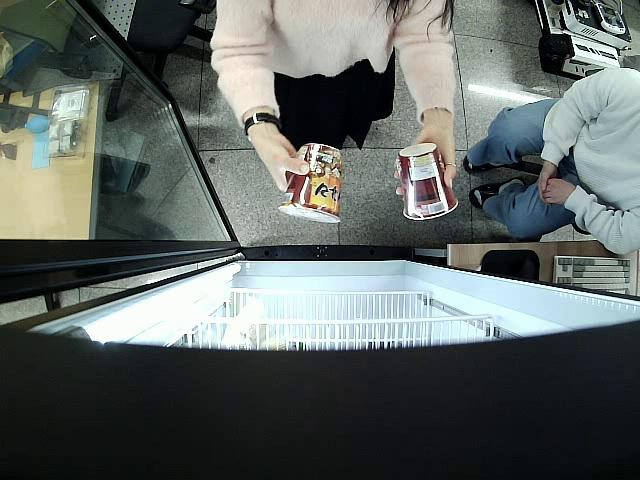00_hand: (394, 129, 457, 197), (256, 133, 310, 193)
06_nuguri_S: (277, 144, 341, 223), (397, 141, 459, 222)
